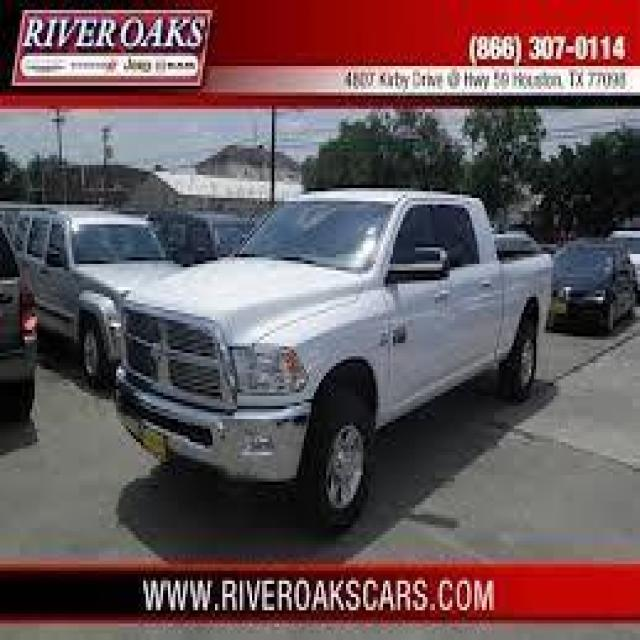Car: (106, 155, 571, 525)
